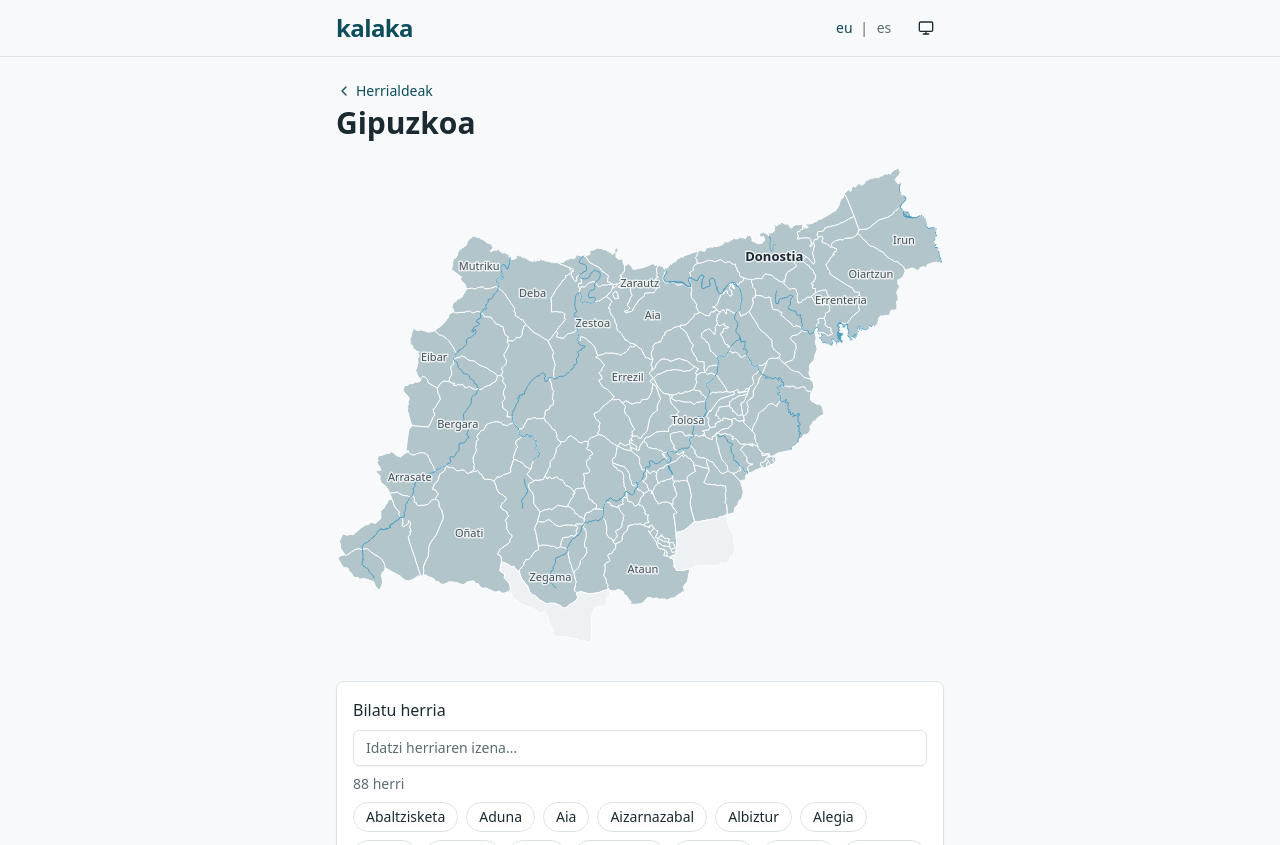
it: province screen › filters the towns list as you type, ignoring accents
In the search field labelled "Bilatu herria": [640, 748] box [353, 730, 927, 766], type "onati"
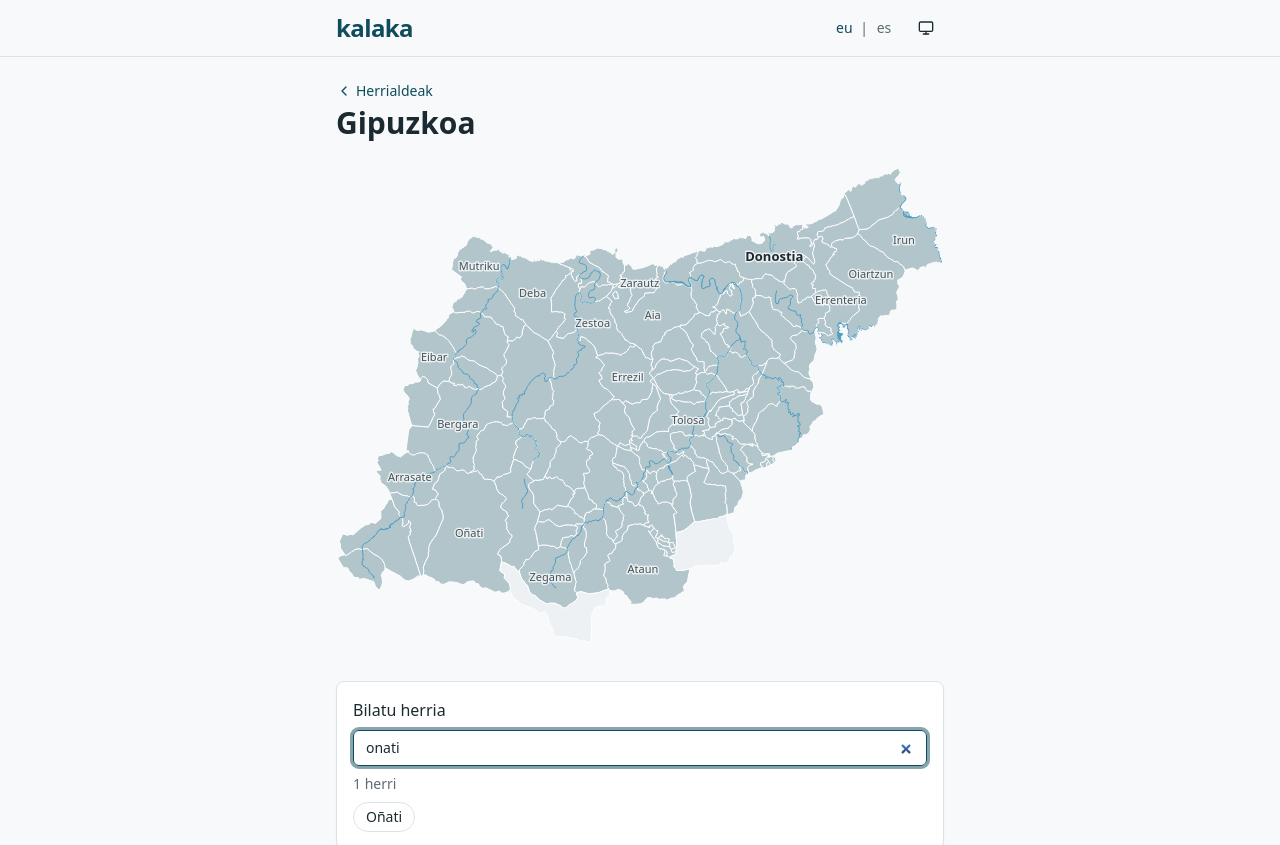
Now the links read "Oñati", in this order, box [353, 802, 415, 832]
Now the text "1 herri" is shown, box [353, 774, 396, 793]
Replace the text in the search field labelled "Bilatu herria" with "zarau": [640, 748] box [353, 730, 927, 766]
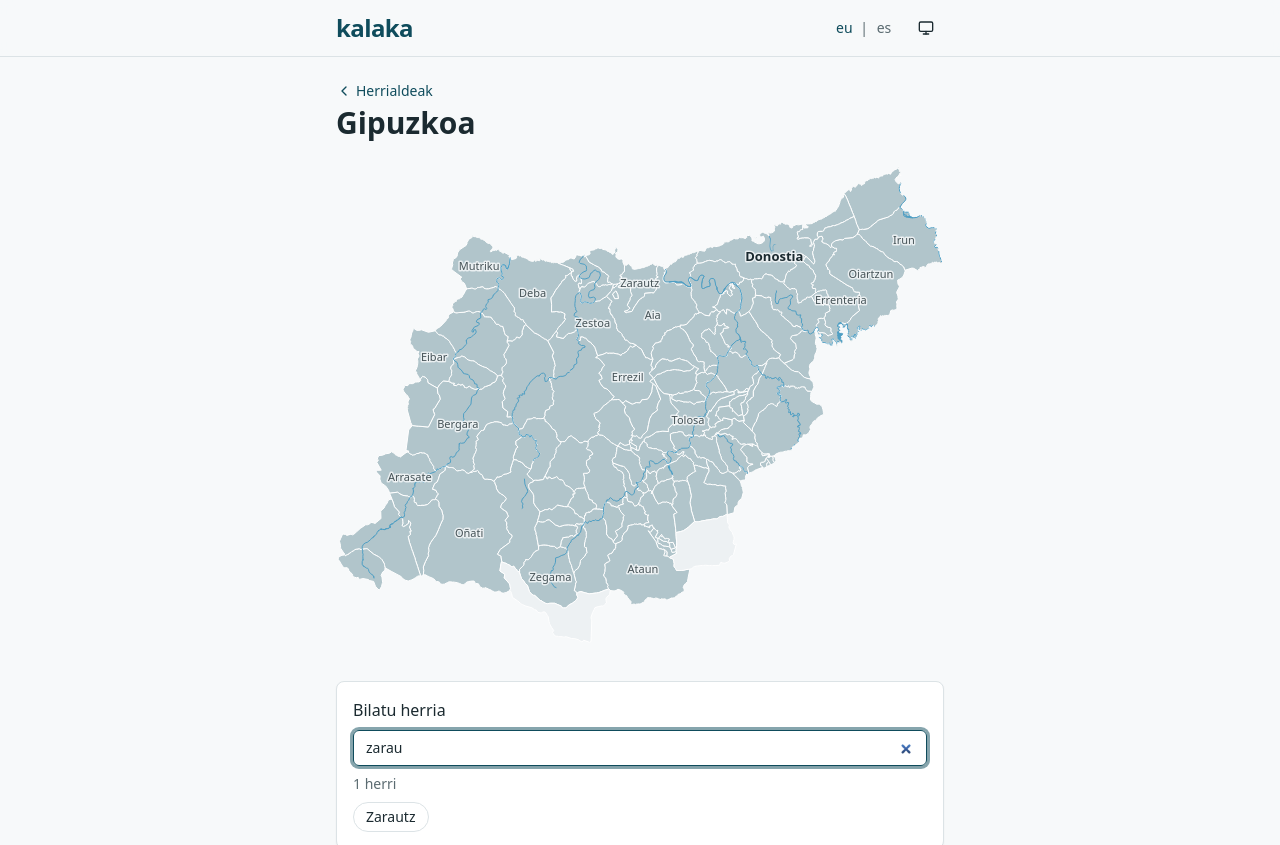
Now the links read "Zarautz", in this order, box [353, 802, 428, 832]
In the search field labelled "Bilatu herria": [640, 748] box [353, 730, 927, 766], type "xyz"
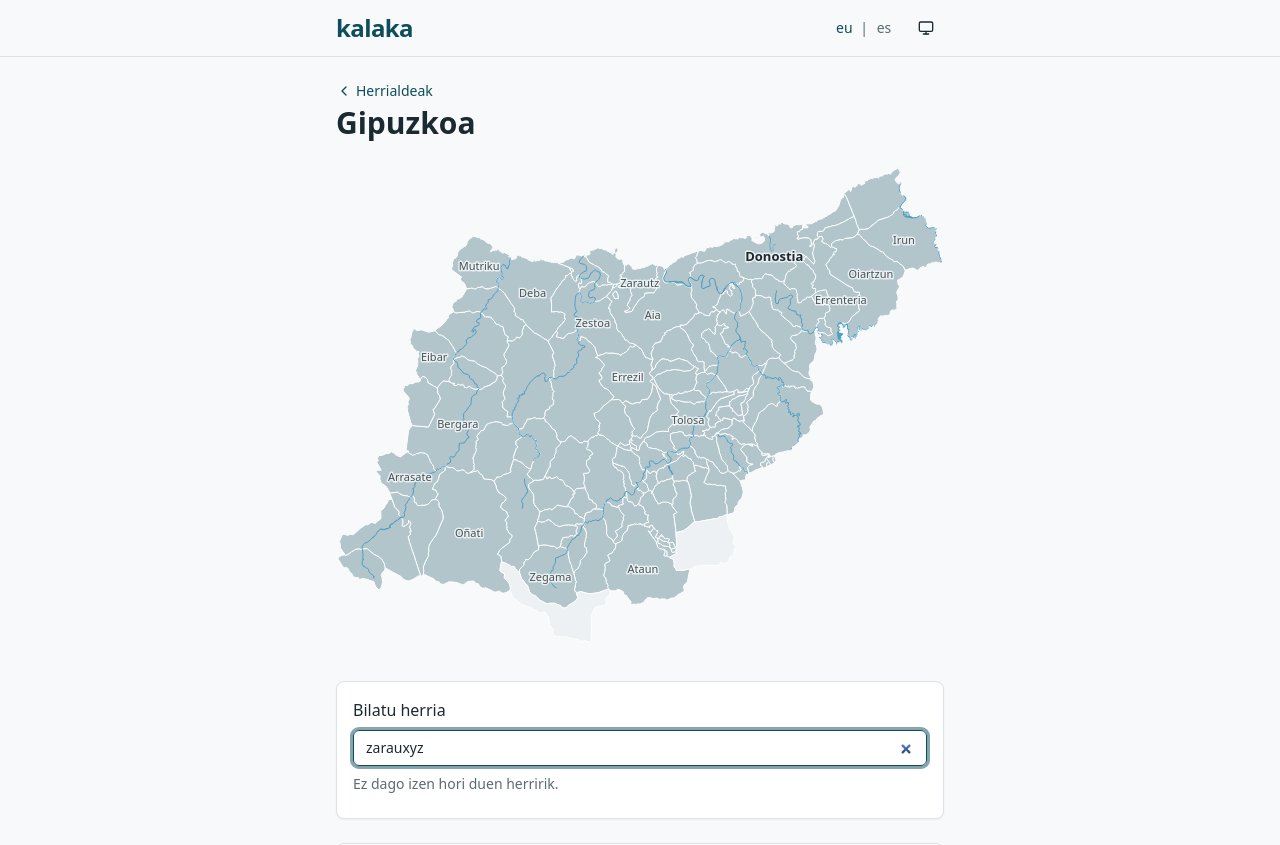
Now no the link "Zarautz" are shown
Now the text "Ez dago izen hori duen herririk." is shown, box [353, 774, 558, 793]
